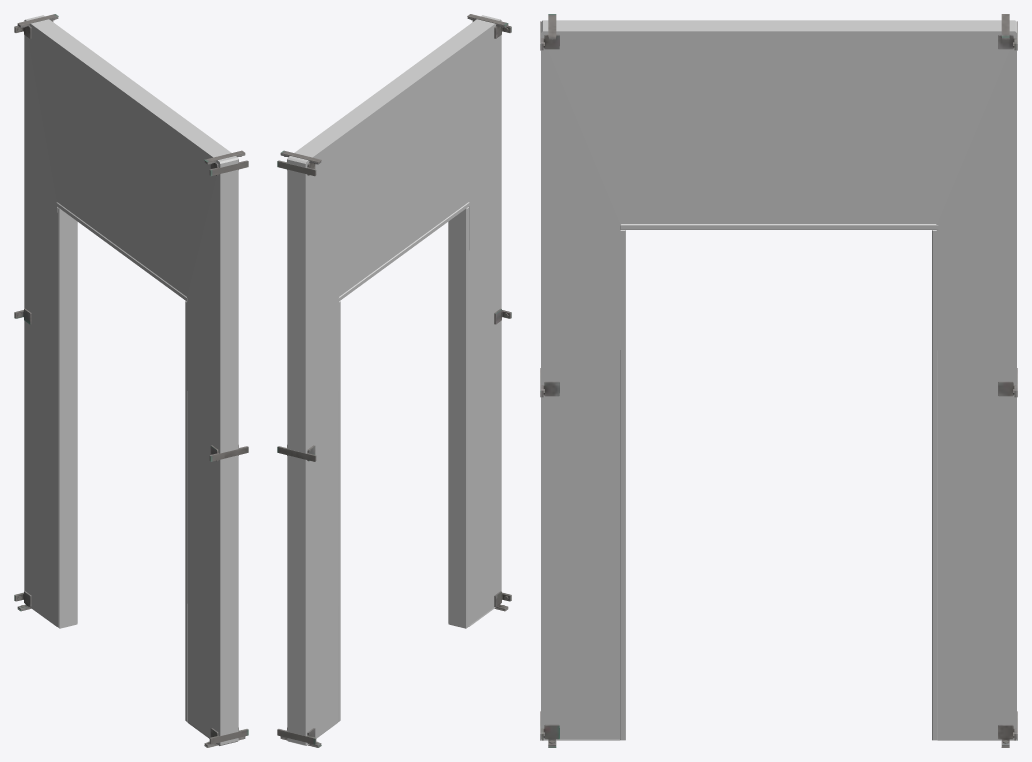
File: SM_WallGate_Glass_e90f59.glb
3 renders of one model, left to right at view 1: azimuth 30°, elevation 25°; view 2: azimuth 150°, elevation 25°; view 3: azimuth 270°, elevation 25°, orthographic. The views are drawn at different scales.
Bounding box in the file's own units: 0.4499 × 6.59 × 4.01.
2 materials, 1 textured.
